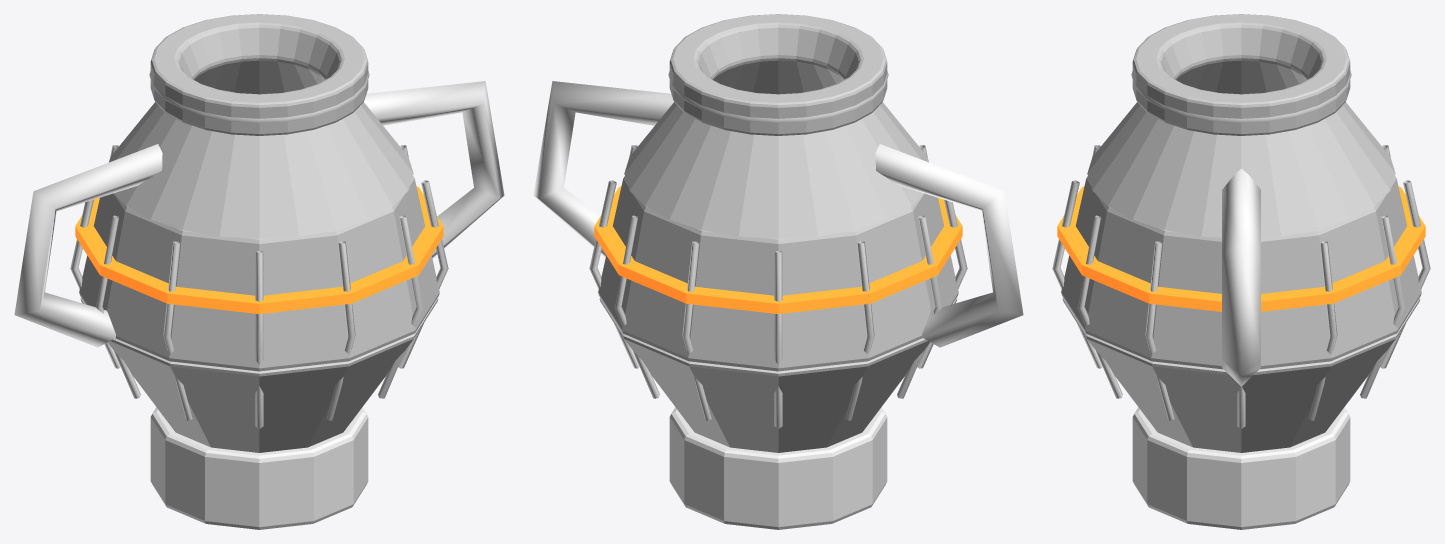
Rendered from AS_23_Urn.glb.
3 views of the same model, side by side, from view 1: azimuth 30°, elevation 25°; view 2: azimuth 150°, elevation 25°; view 3: azimuth 270°, elevation 25° (orthographic).
Parts seen in each view (by area): view 1: AS_23_Urn__hollow urn neck, AS_23_Urn__belly, AS_23_Urn__lower, AS_23_Urn__foot, AS_23_Urn__handle.001, AS_23_Urn__ember belt, AS_23_Urn__handle, AS_23_Urn__urn bronze fluting.009, AS_23_Urn__urn lip, AS_23_Urn__urn bronze fluting.011, AS_23_Urn__urn bronze fluting.010, AS_23_Urn__urn bronze fluting.008 (+3 smaller); view 2: AS_23_Urn__hollow urn neck, AS_23_Urn__belly, AS_23_Urn__lower, AS_23_Urn__foot, AS_23_Urn__handle.001, AS_23_Urn__ember belt, AS_23_Urn__handle, AS_23_Urn__urn bronze fluting.005, AS_23_Urn__urn lip, AS_23_Urn__urn bronze fluting.003, AS_23_Urn__urn bronze fluting.006, AS_23_Urn__urn bronze fluting.004 (+3 smaller); view 3: AS_23_Urn__hollow urn neck, AS_23_Urn__belly, AS_23_Urn__lower, AS_23_Urn__foot, AS_23_Urn__handle, AS_23_Urn__ember belt, AS_23_Urn__urn lip, AS_23_Urn__urn bronze fluting.003, AS_23_Urn__urn bronze fluting.011, AS_23_Urn__urn bronze fluting.002, AS_23_Urn__urn bronze fluting, AS_23_Urn__urn bronze fluting.004 (+1 smaller).
Boxes of the visible parts, bbox=[...] form: AS_23_Urn__hollow urn neck: bbox=[109, 14, 413, 238]; AS_23_Urn__belly: bbox=[79, 176, 439, 371]; AS_23_Urn__lower: bbox=[80, 297, 438, 452]; AS_23_Urn__foot: bbox=[150, 407, 368, 529]; AS_23_Urn__handle.001: bbox=[14, 144, 162, 347]; AS_23_Urn__ember belt: bbox=[75, 186, 443, 314]; AS_23_Urn__handle: bbox=[364, 81, 504, 258]; AS_23_Urn__urn bronze fluting.009: bbox=[255, 251, 263, 428]; AS_23_Urn__urn lip: bbox=[149, 71, 369, 122]; AS_23_Urn__urn bronze fluting.011: bbox=[378, 215, 423, 398]; AS_23_Urn__urn bronze fluting.010: bbox=[326, 241, 355, 420]; AS_23_Urn__urn bronze fluting.008: bbox=[163, 241, 192, 420]; AS_23_Urn__hollow urn neck: bbox=[624, 14, 928, 238]; AS_23_Urn__belly: bbox=[598, 176, 958, 371]; AS_23_Urn__lower: bbox=[599, 297, 957, 452]; AS_23_Urn__foot: bbox=[669, 407, 887, 529]; AS_23_Urn__handle.001: bbox=[875, 144, 1023, 347]; AS_23_Urn__ember belt: bbox=[594, 186, 962, 314]; AS_23_Urn__handle: bbox=[533, 81, 673, 258]; AS_23_Urn__urn bronze fluting.005: bbox=[774, 251, 782, 428]; AS_23_Urn__urn lip: bbox=[668, 71, 888, 122]; AS_23_Urn__urn bronze fluting.003: bbox=[614, 215, 659, 398]; AS_23_Urn__urn bronze fluting.006: bbox=[845, 241, 874, 420]; AS_23_Urn__urn bronze fluting.004: bbox=[682, 241, 711, 420]; AS_23_Urn__hollow urn neck: bbox=[1087, 14, 1395, 237]; AS_23_Urn__belly: bbox=[1061, 176, 1421, 369]; AS_23_Urn__lower: bbox=[1062, 297, 1420, 452]; AS_23_Urn__foot: bbox=[1132, 407, 1350, 529]; AS_23_Urn__handle: bbox=[1222, 169, 1260, 386]; AS_23_Urn__ember belt: bbox=[1057, 186, 1425, 311]; AS_23_Urn__urn lip: bbox=[1131, 71, 1351, 122]; AS_23_Urn__urn bronze fluting.003: bbox=[1360, 215, 1405, 398]; AS_23_Urn__urn bronze fluting.011: bbox=[1077, 215, 1122, 398]; AS_23_Urn__urn bronze fluting.002: bbox=[1308, 241, 1337, 420]; AS_23_Urn__urn bronze fluting: bbox=[1145, 241, 1174, 420]; AS_23_Urn__urn bronze fluting.004: bbox=[1380, 180, 1430, 368].
Size of the model in its own units: 1.25 by 1.04 by 0.8339.
